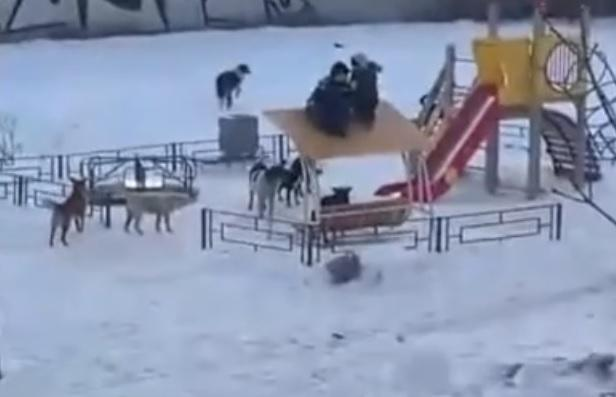normal_dogs: (116, 185, 197, 241), (43, 173, 95, 250), (212, 59, 256, 113)
